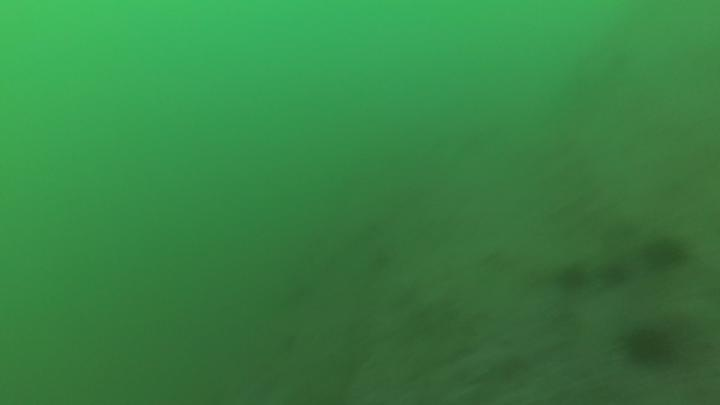echinus: (620, 323, 677, 368), (640, 233, 690, 273), (554, 261, 590, 294), (597, 259, 630, 290)
